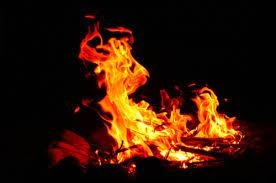fire: (87, 19, 236, 171)
